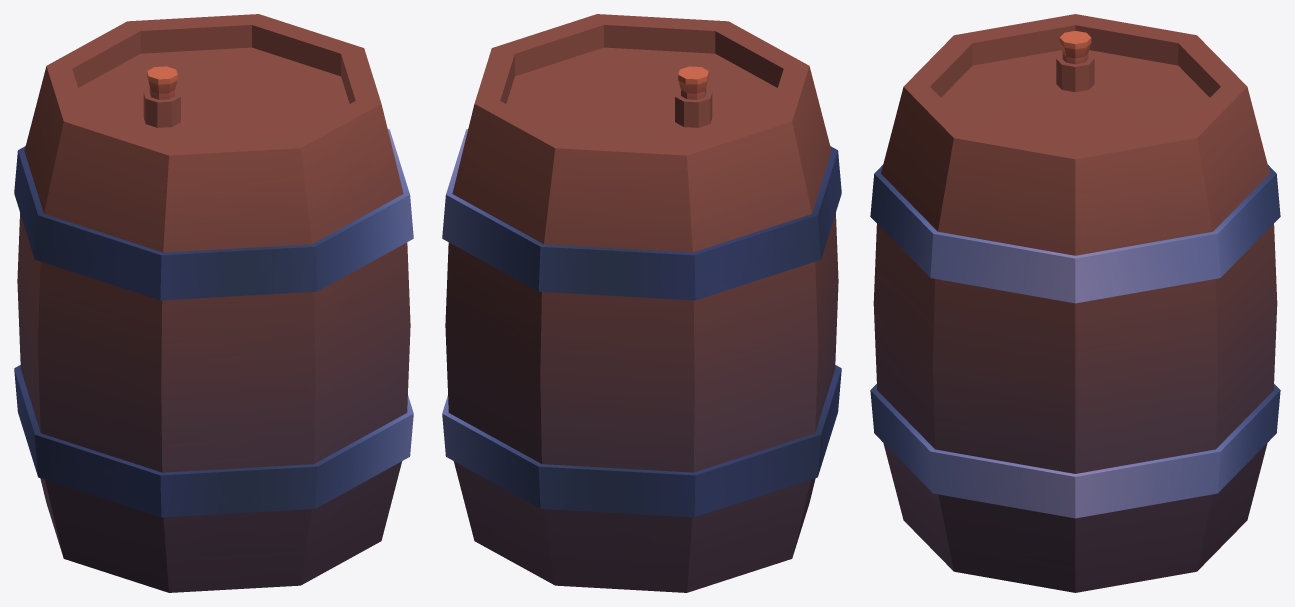
File: barrel.fbx
3 renders of one model, left to right at view 1: azimuth 30°, elevation 25°; view 2: azimuth 150°, elevation 25°; view 3: azimuth 270°, elevation 25°, orthographic.
Visible parts, largest first — view 1: pCylinder65; view 2: pCylinder65; view 3: pCylinder65.
Boxes of the visible parts, x1,y1,x2,y2 form: pCylinder65: [14, 14, 413, 592]; pCylinder65: [442, 14, 841, 592]; pCylinder65: [870, 14, 1280, 592].
Size of the model in its own units: 0.4287 by 0.528 by 0.4287.
